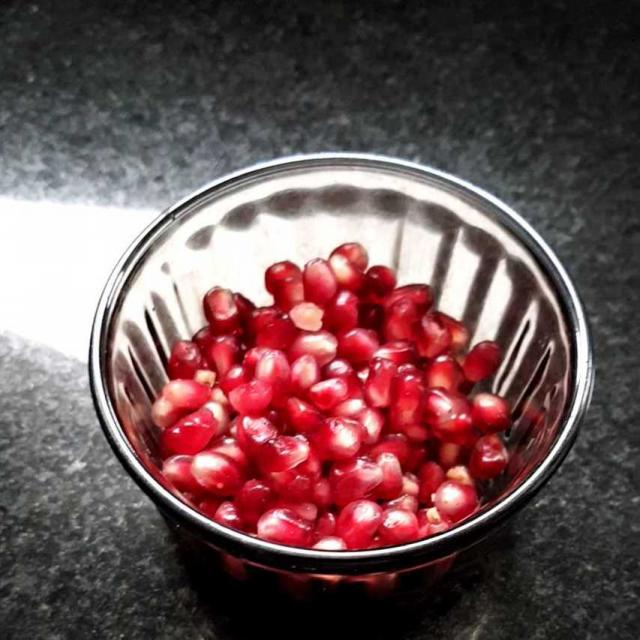pomegranate: (153, 252, 513, 540)
